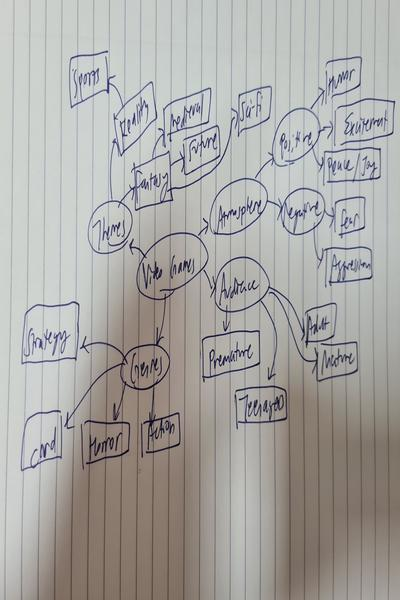arrow: (170, 112, 240, 190), (268, 289, 318, 369), (64, 366, 121, 426), (270, 282, 302, 336), (259, 303, 278, 384), (78, 339, 124, 358), (108, 138, 118, 199), (115, 379, 129, 422), (155, 296, 167, 345), (110, 72, 126, 108), (256, 154, 276, 179), (198, 269, 218, 293), (310, 89, 326, 114), (149, 387, 161, 420), (314, 228, 324, 267), (310, 143, 322, 174), (153, 128, 165, 158), (266, 196, 282, 217), (126, 243, 145, 257), (171, 151, 185, 170), (198, 218, 210, 240), (120, 186, 134, 204), (324, 207, 336, 225), (223, 309, 233, 330), (320, 122, 333, 136)
idea: (23, 301, 78, 361), (112, 82, 155, 154), (334, 98, 396, 143), (202, 331, 260, 375), (132, 155, 177, 207), (163, 88, 213, 133), (21, 411, 61, 467), (69, 51, 109, 106), (81, 420, 129, 462), (323, 149, 380, 184), (234, 386, 287, 423), (326, 245, 373, 283), (140, 415, 182, 455), (184, 126, 221, 171), (236, 86, 273, 131), (326, 55, 366, 96), (318, 342, 359, 381), (331, 196, 367, 236), (305, 304, 336, 340)
topic: (136, 233, 207, 300), (210, 179, 269, 236), (215, 256, 269, 312), (272, 107, 321, 165), (88, 202, 132, 255), (123, 344, 171, 389), (281, 188, 325, 236)
